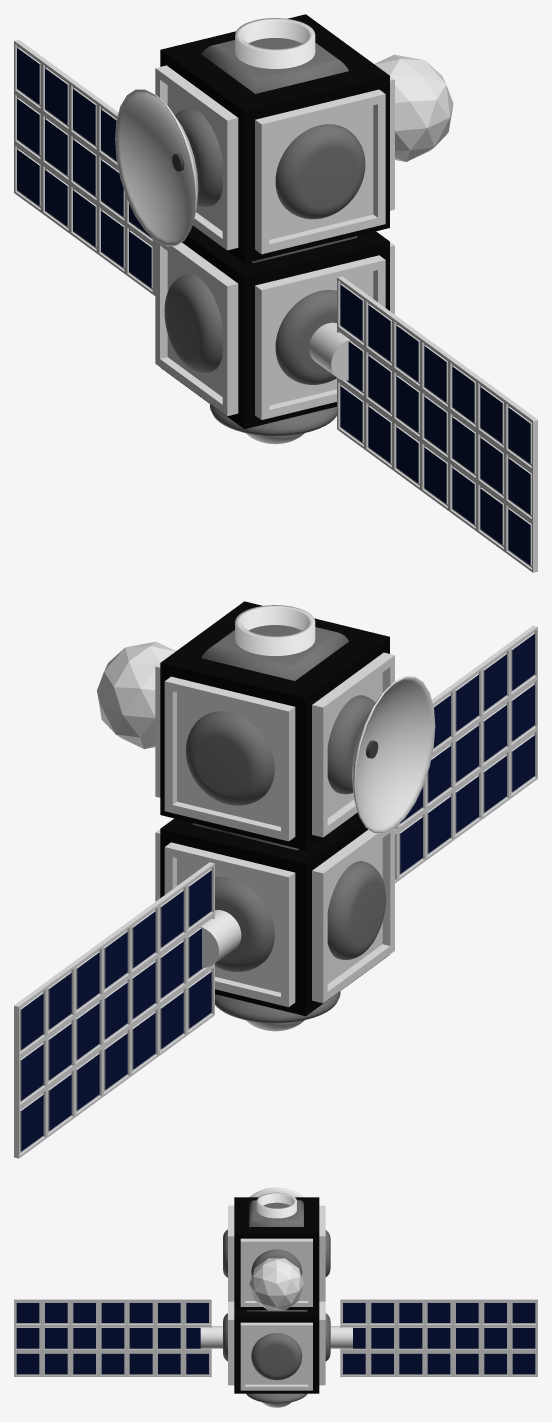
File: civ_sat_2_6.glb
The picture shows the model from 3 angles, top to bottom: view 1: azimuth 30°, elevation 25°; view 2: azimuth 150°, elevation 25°; view 3: azimuth 270°, elevation 25°; orthographic projection. The views are drawn at different scales.
Visible parts, largest first — view 1: Cube.030; view 2: Cube.030; view 3: Cube.030.
Boxes of the visible parts, x1=… form: Cube.030: x1=14, y1=14, x2=537, y2=572; Cube.030: x1=14, y1=601, x2=537, y2=1158; Cube.030: x1=14, y1=1187, x2=537, y2=1407.
Bounding box in the file's own units: 11.97 × 15.87 × 37.09.
